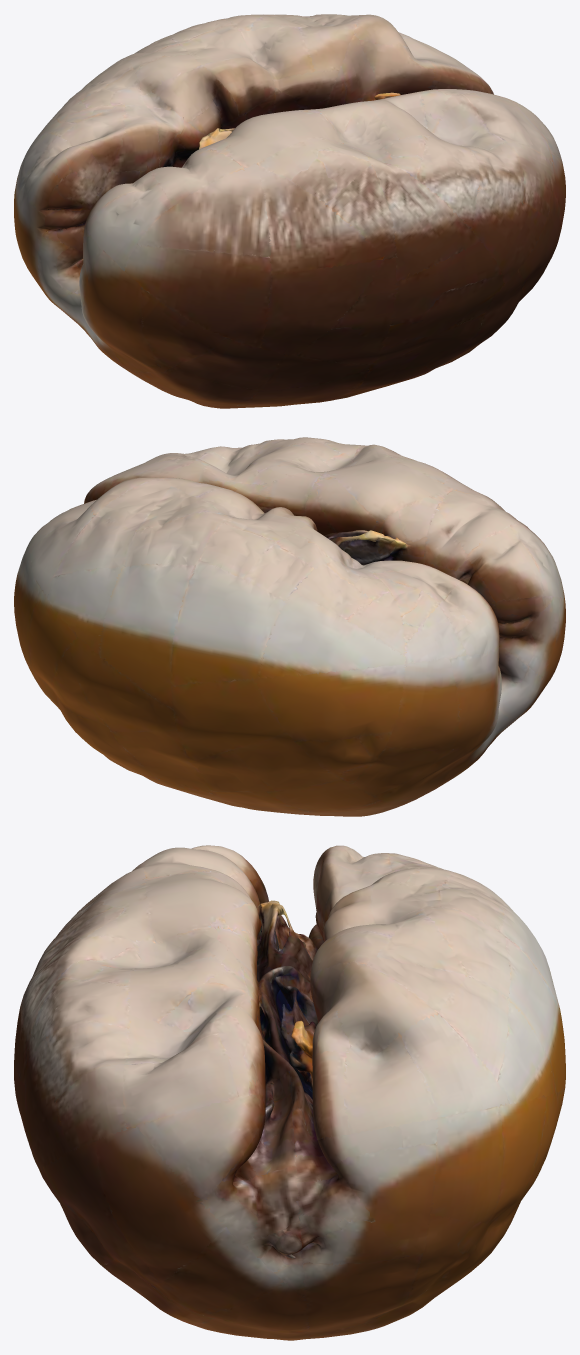
File: bean3.glb
The picture shows the model from 3 angles, top to bottom: view 1: azimuth 30°, elevation 25°; view 2: azimuth 150°, elevation 25°; view 3: azimuth 270°, elevation 25°; orthographic projection. The views are drawn at different scales.
Size of the model in its own units: 1.9 by 1.23 by 1.62.
1 material, 1 textured.
